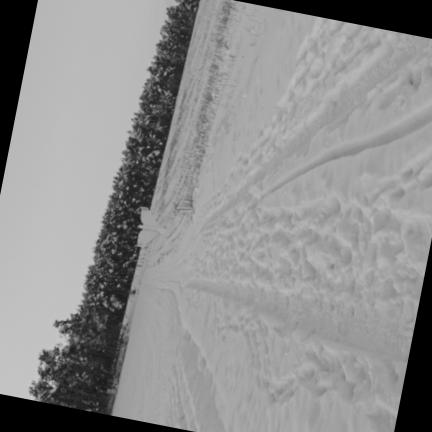Shahed: (137, 206, 165, 246)
